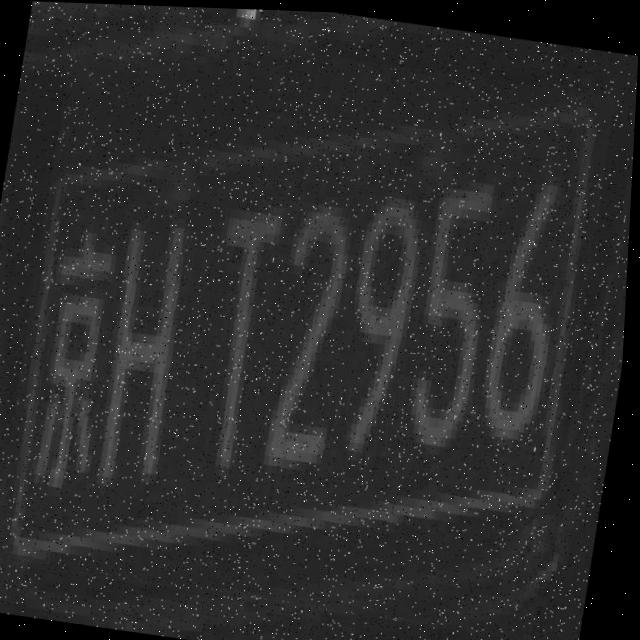LicensePlate: (0, 18, 619, 637)
